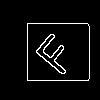F: (25, 25, 81, 79)
